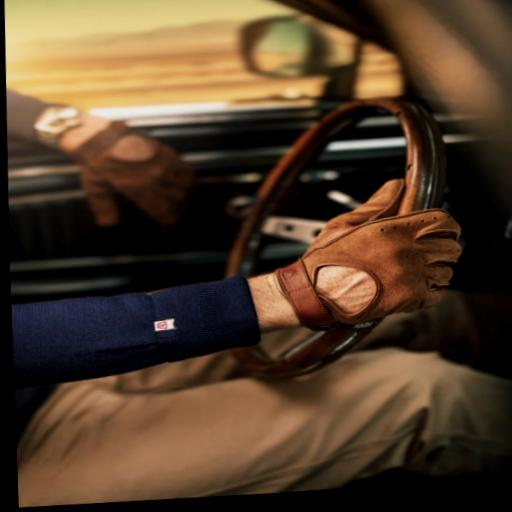Hands-on-the-Wheel: (222, 162, 480, 348)
